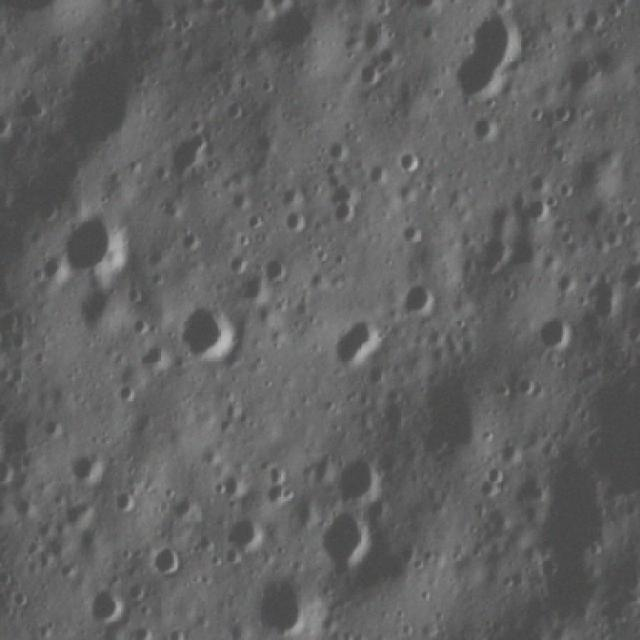crater: (448, 28, 534, 97), (58, 217, 122, 275), (314, 516, 377, 572), (189, 305, 240, 369), (525, 317, 577, 363), (256, 580, 312, 620), (342, 323, 380, 374), (330, 463, 381, 500), (224, 513, 273, 547), (84, 583, 125, 622), (71, 449, 103, 486), (153, 547, 190, 578), (409, 284, 437, 316), (114, 492, 135, 518)
